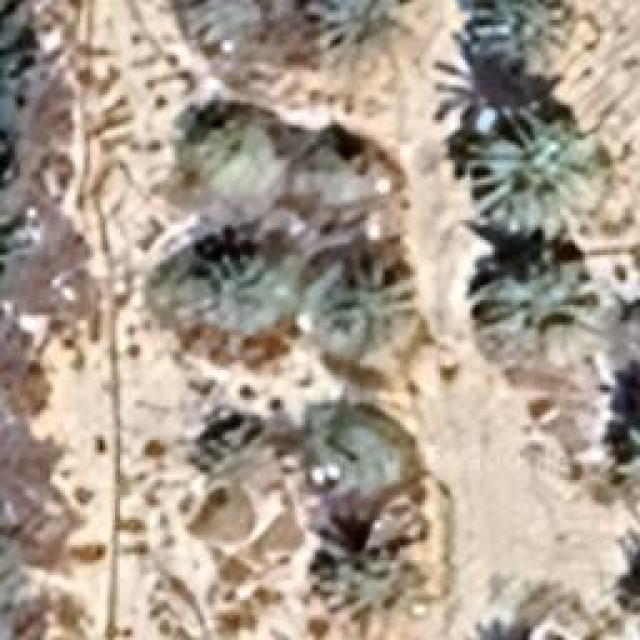PalmTree: (25, 84, 627, 453), (468, 115, 600, 240), (480, 258, 600, 388), (312, 528, 430, 638), (98, 34, 351, 84), (190, 234, 292, 354), (194, 96, 306, 199), (302, 417, 411, 512), (310, 122, 405, 225), (308, 252, 400, 356), (174, 4, 284, 74), (198, 408, 282, 494), (475, 0, 580, 65), (608, 250, 640, 374), (458, 613, 576, 640), (612, 541, 640, 640), (621, 398, 640, 502)
